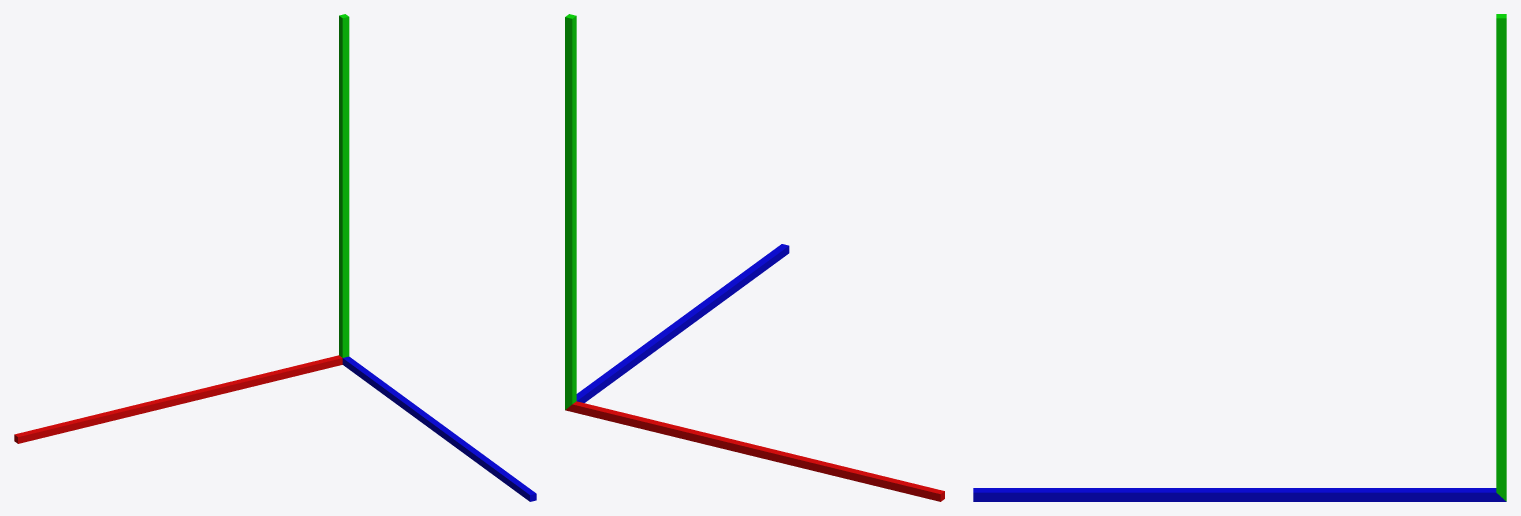
File: AxisModel.fbx
3 views of the same model, side by side, from view 1: azimuth 30°, elevation 25°; view 2: azimuth 150°, elevation 25°; view 3: azimuth 270°, elevation 25° (orthographic). The views are drawn at different scales.
Parts seen in each view (by area): view 1: pCube3; view 2: pCube3; view 3: pCube3.
Part boxes in pixels (x1,y1,x2,y2): pCube3: (14, 14, 536, 501); pCube3: (565, 14, 944, 501); pCube3: (973, 14, 1506, 501).
Bounding box in the file's own units: 25.5 × 25.5 × 25.5.
